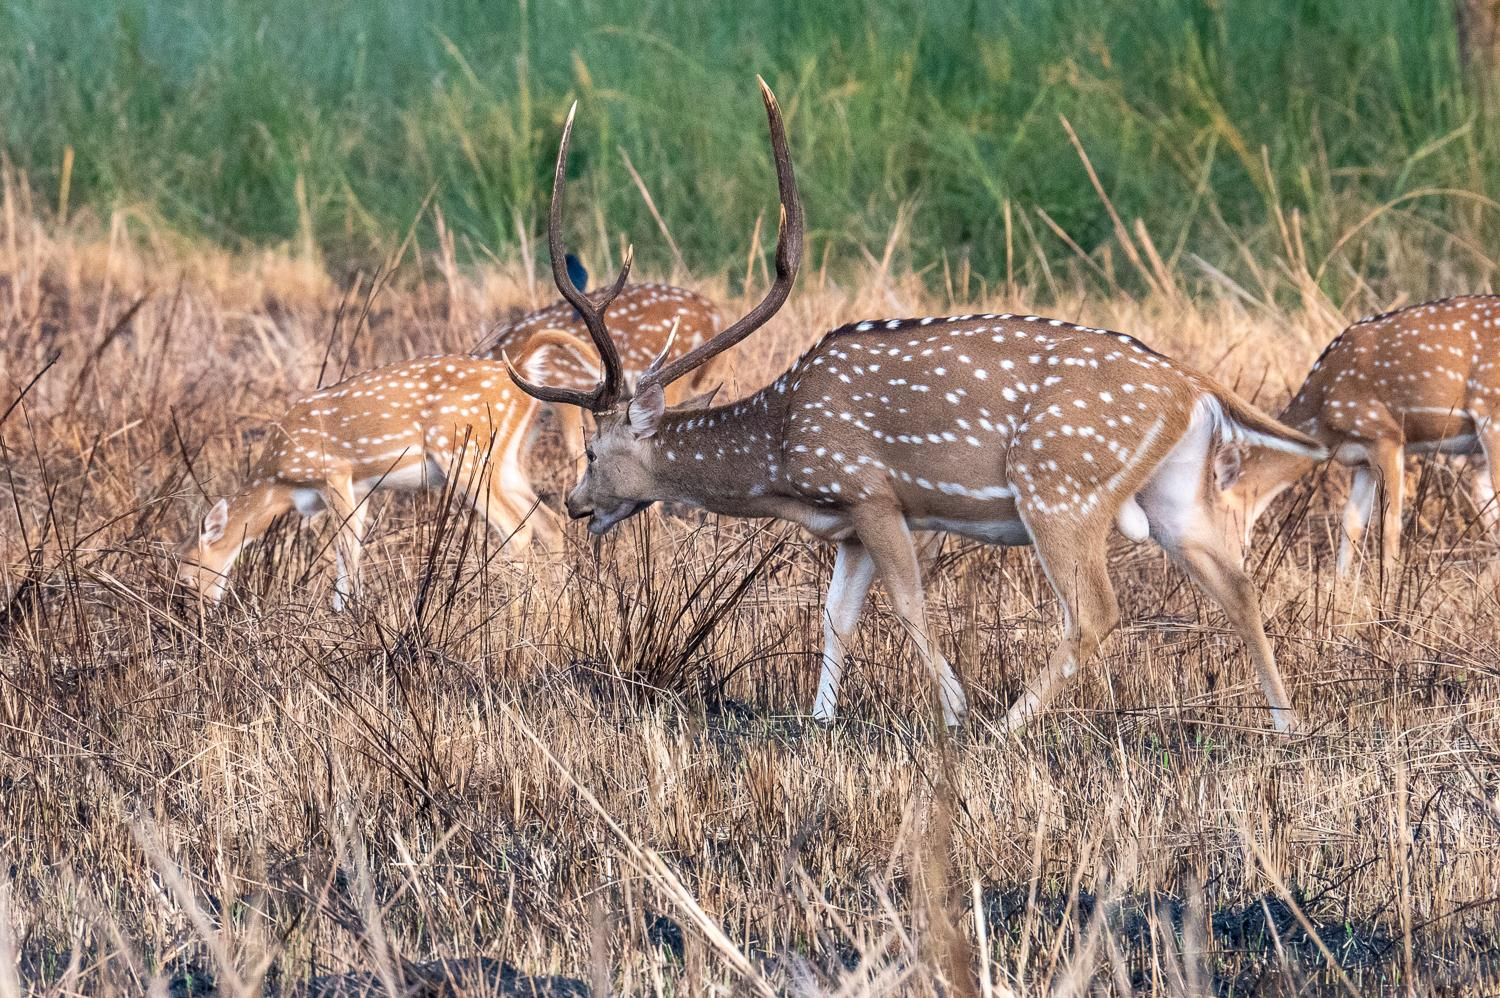Deer: (518, 82, 1324, 730), (184, 356, 559, 610), (1280, 296, 1499, 568)
